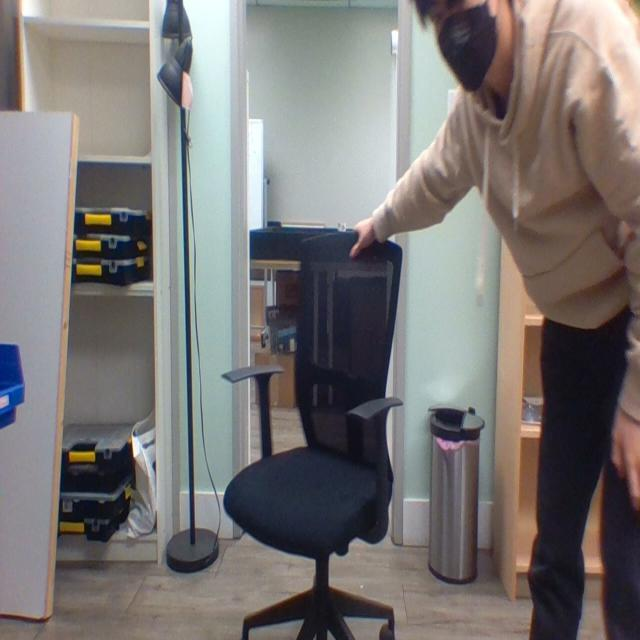black-chair: (218, 206, 408, 639)
